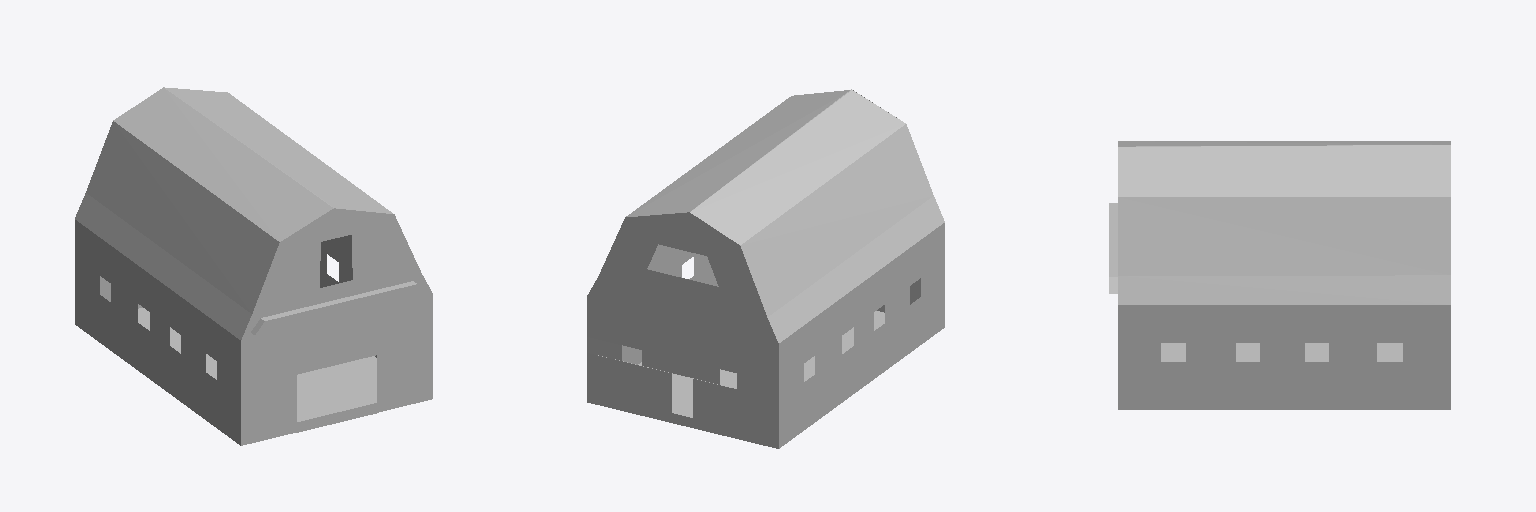
File: barn.obj
The picture shows the model from 3 angles: view 1: azimuth 30°, elevation 25°; view 2: azimuth 150°, elevation 25°; view 3: azimuth 270°, elevation 25°; orthographic projection.
Visible parts, largest first — view 1: Cube_Cube.002; view 2: Cube_Cube.002; view 3: Cube_Cube.002.
Part boxes in pixels (left/top/right/bottom): Cube_Cube.002: left=75, top=87, right=432, bottom=445; Cube_Cube.002: left=587, top=89, right=944, bottom=448; Cube_Cube.002: left=1109, top=141, right=1450, bottom=409.
Size of the model in its own units: 10 by 10.72 by 15.39.